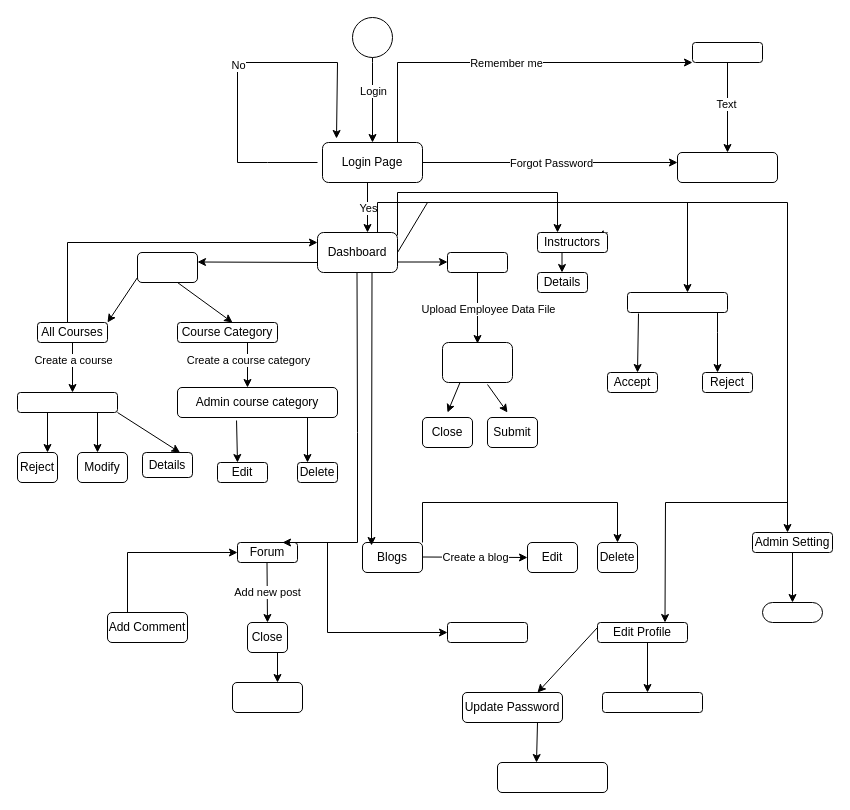
The diagram is 850 pixels wide and 810 high, and some of its shapes have lost their labels. The centre of each missing label's shape, as x and y in pixels:
Admin course list: pixel 67 402
Certificates: pixel 487 632
Change Password: pixel 552 777
Choose File: pixel 477 362
Course Request: pixel 677 302
Courses: pixel 167 267
Create Post: pixel 267 697
Password: pixel 727 167
Save changes: pixel 652 702
Send: pixel 792 612
Staff ID: pixel 727 52
Students: pixel 477 262
